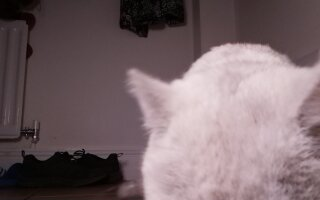bad: (123, 45, 319, 200)
